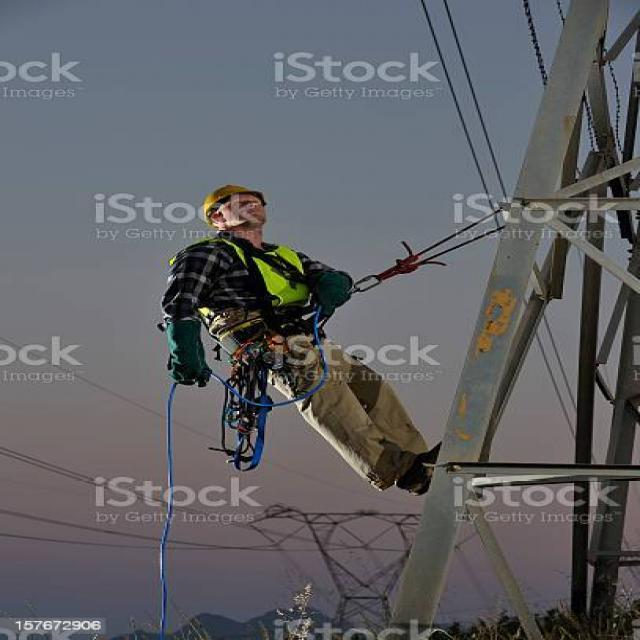belt: (174, 230, 358, 343)
